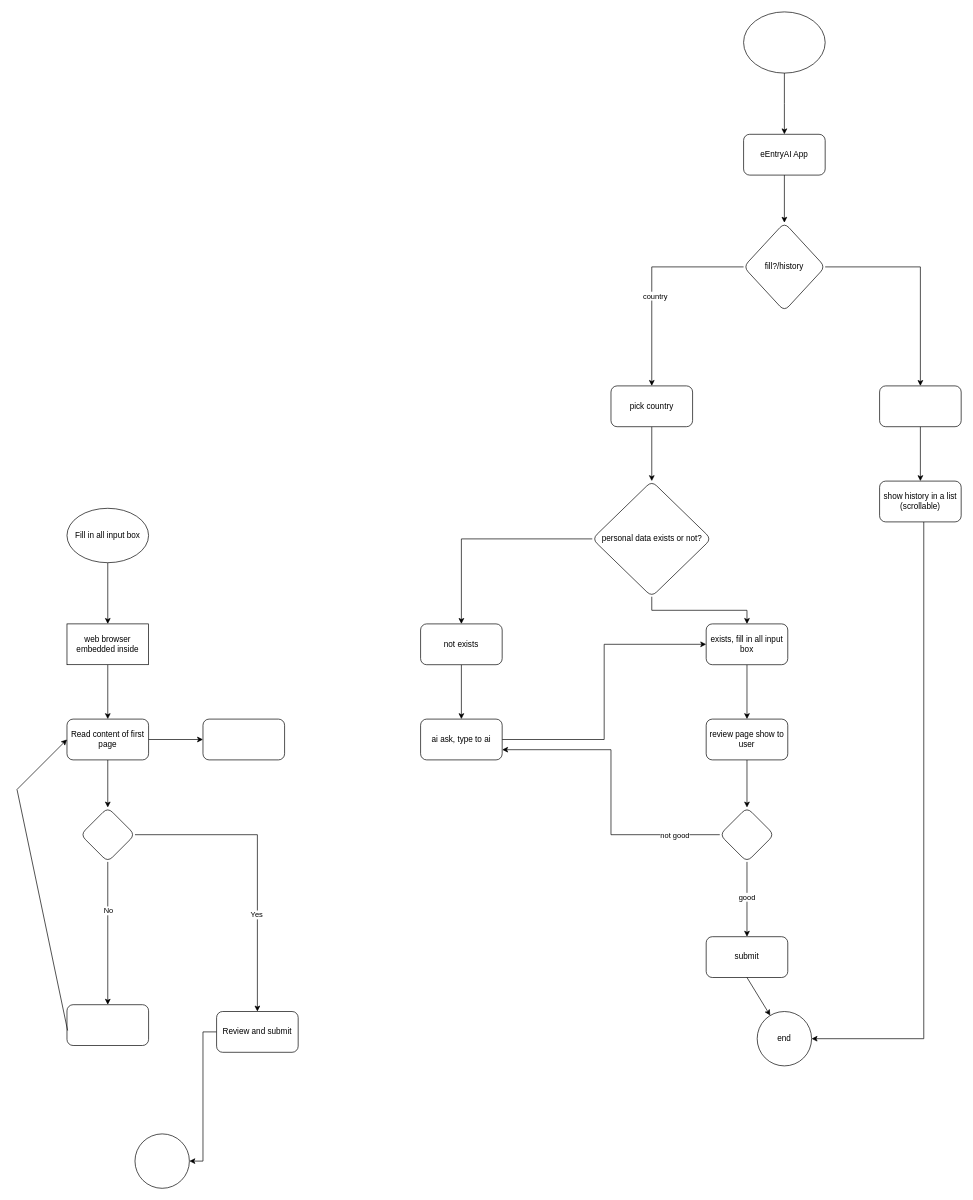
The diagram is 973 pixels wide and 1200 high, and some of its shapes have lost their labels. Each missing label, with the centre of its shape:
click on pagination numbers: the point at 107,1025
Done: the point at 161,1160
fill in what known, ask what not known.: the point at 243,739
good/no good: the point at 746,834
history: the point at 920,406
iphone user (iphone 17 pro minimum): the point at 784,42
review page?: the point at 107,834
